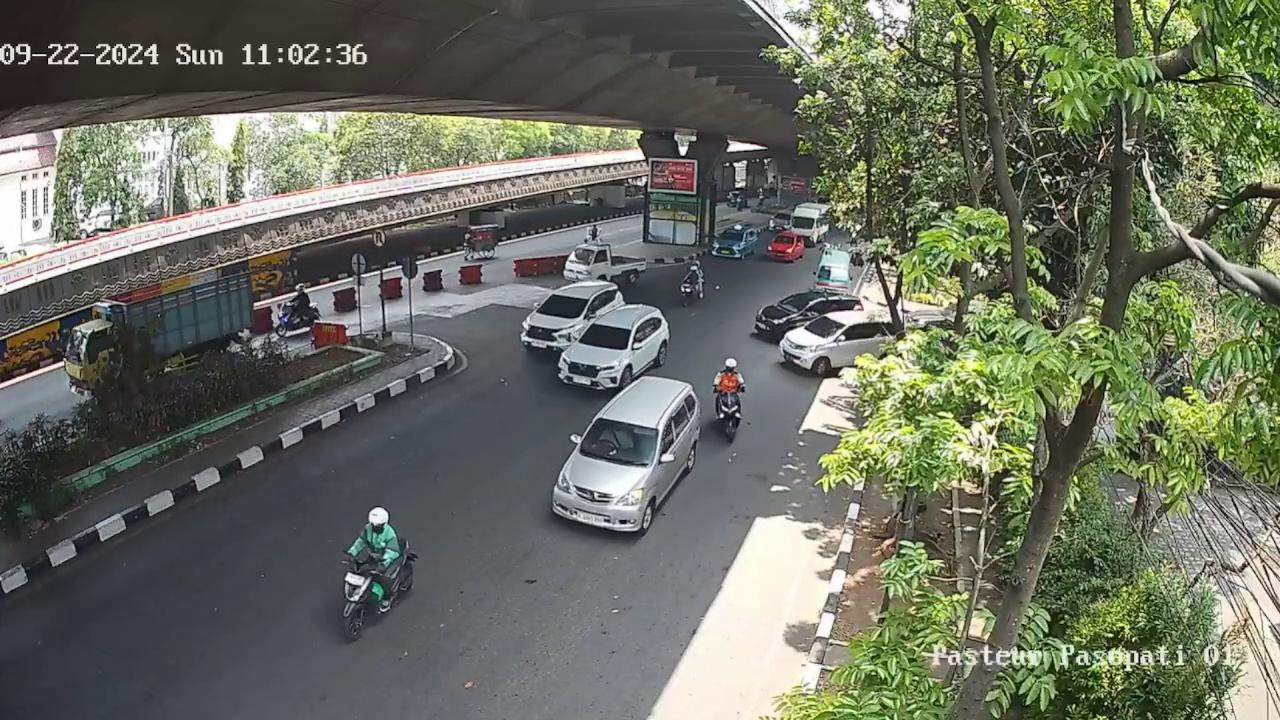pakai: (603, 425, 631, 450)
windshield: (579, 418, 659, 465), (580, 325, 633, 347), (538, 292, 587, 315)
